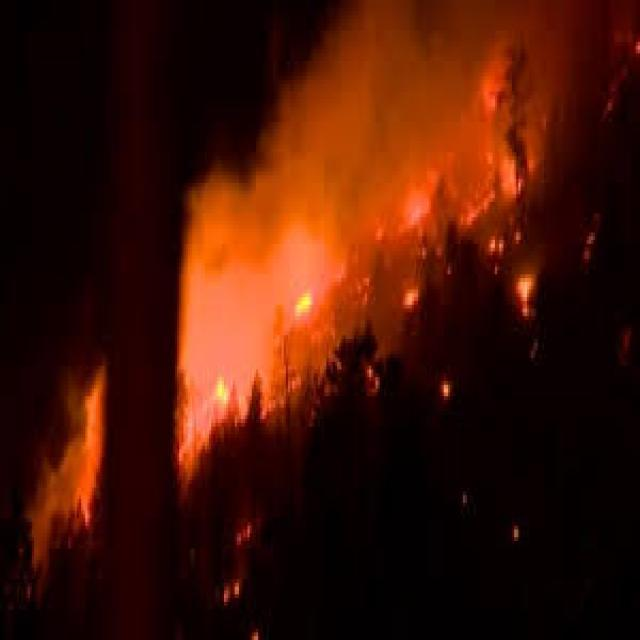Fire: (472, 40, 550, 188), (212, 507, 294, 640), (487, 212, 552, 333), (268, 248, 328, 329), (194, 338, 240, 418), (396, 172, 438, 231), (392, 270, 428, 316), (438, 374, 456, 404)
Smoke: (267, 66, 386, 235), (160, 146, 264, 323), (22, 380, 121, 544)
